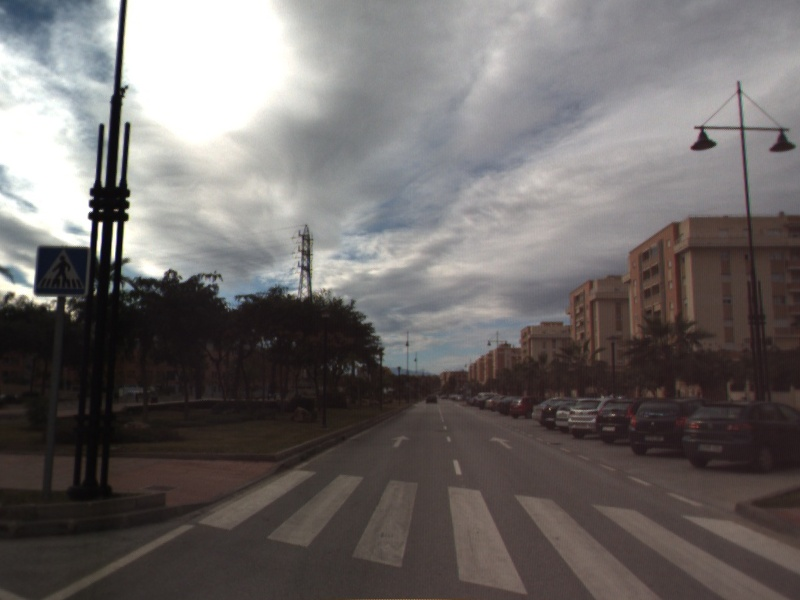STRAIGHT: (487, 434, 515, 450), (389, 433, 412, 449)
